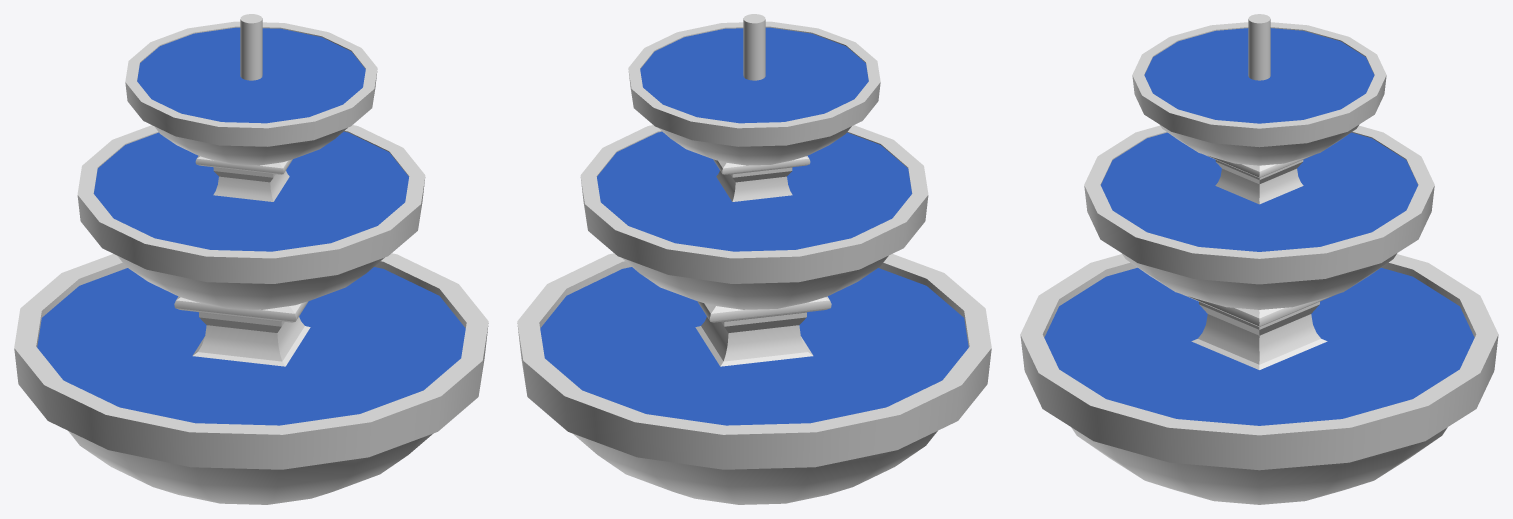
Rendered from CS_Fountain.fbx.
The picture shows the model from 3 angles, left to right: view 1: azimuth 30°, elevation 25°; view 2: azimuth 150°, elevation 25°; view 3: azimuth 270°, elevation 25°; orthographic projection.
Parts seen in each view (by area): view 1: Cube.027; view 2: Cube.027; view 3: Cube.027.
Boxes of the visible parts, x1,y1,x2,y2 form: Cube.027: [14, 14, 488, 504]; Cube.027: [517, 14, 991, 504]; Cube.027: [1020, 14, 1498, 504].
Bounding box in the file's own units: 154 × 155 × 154.
